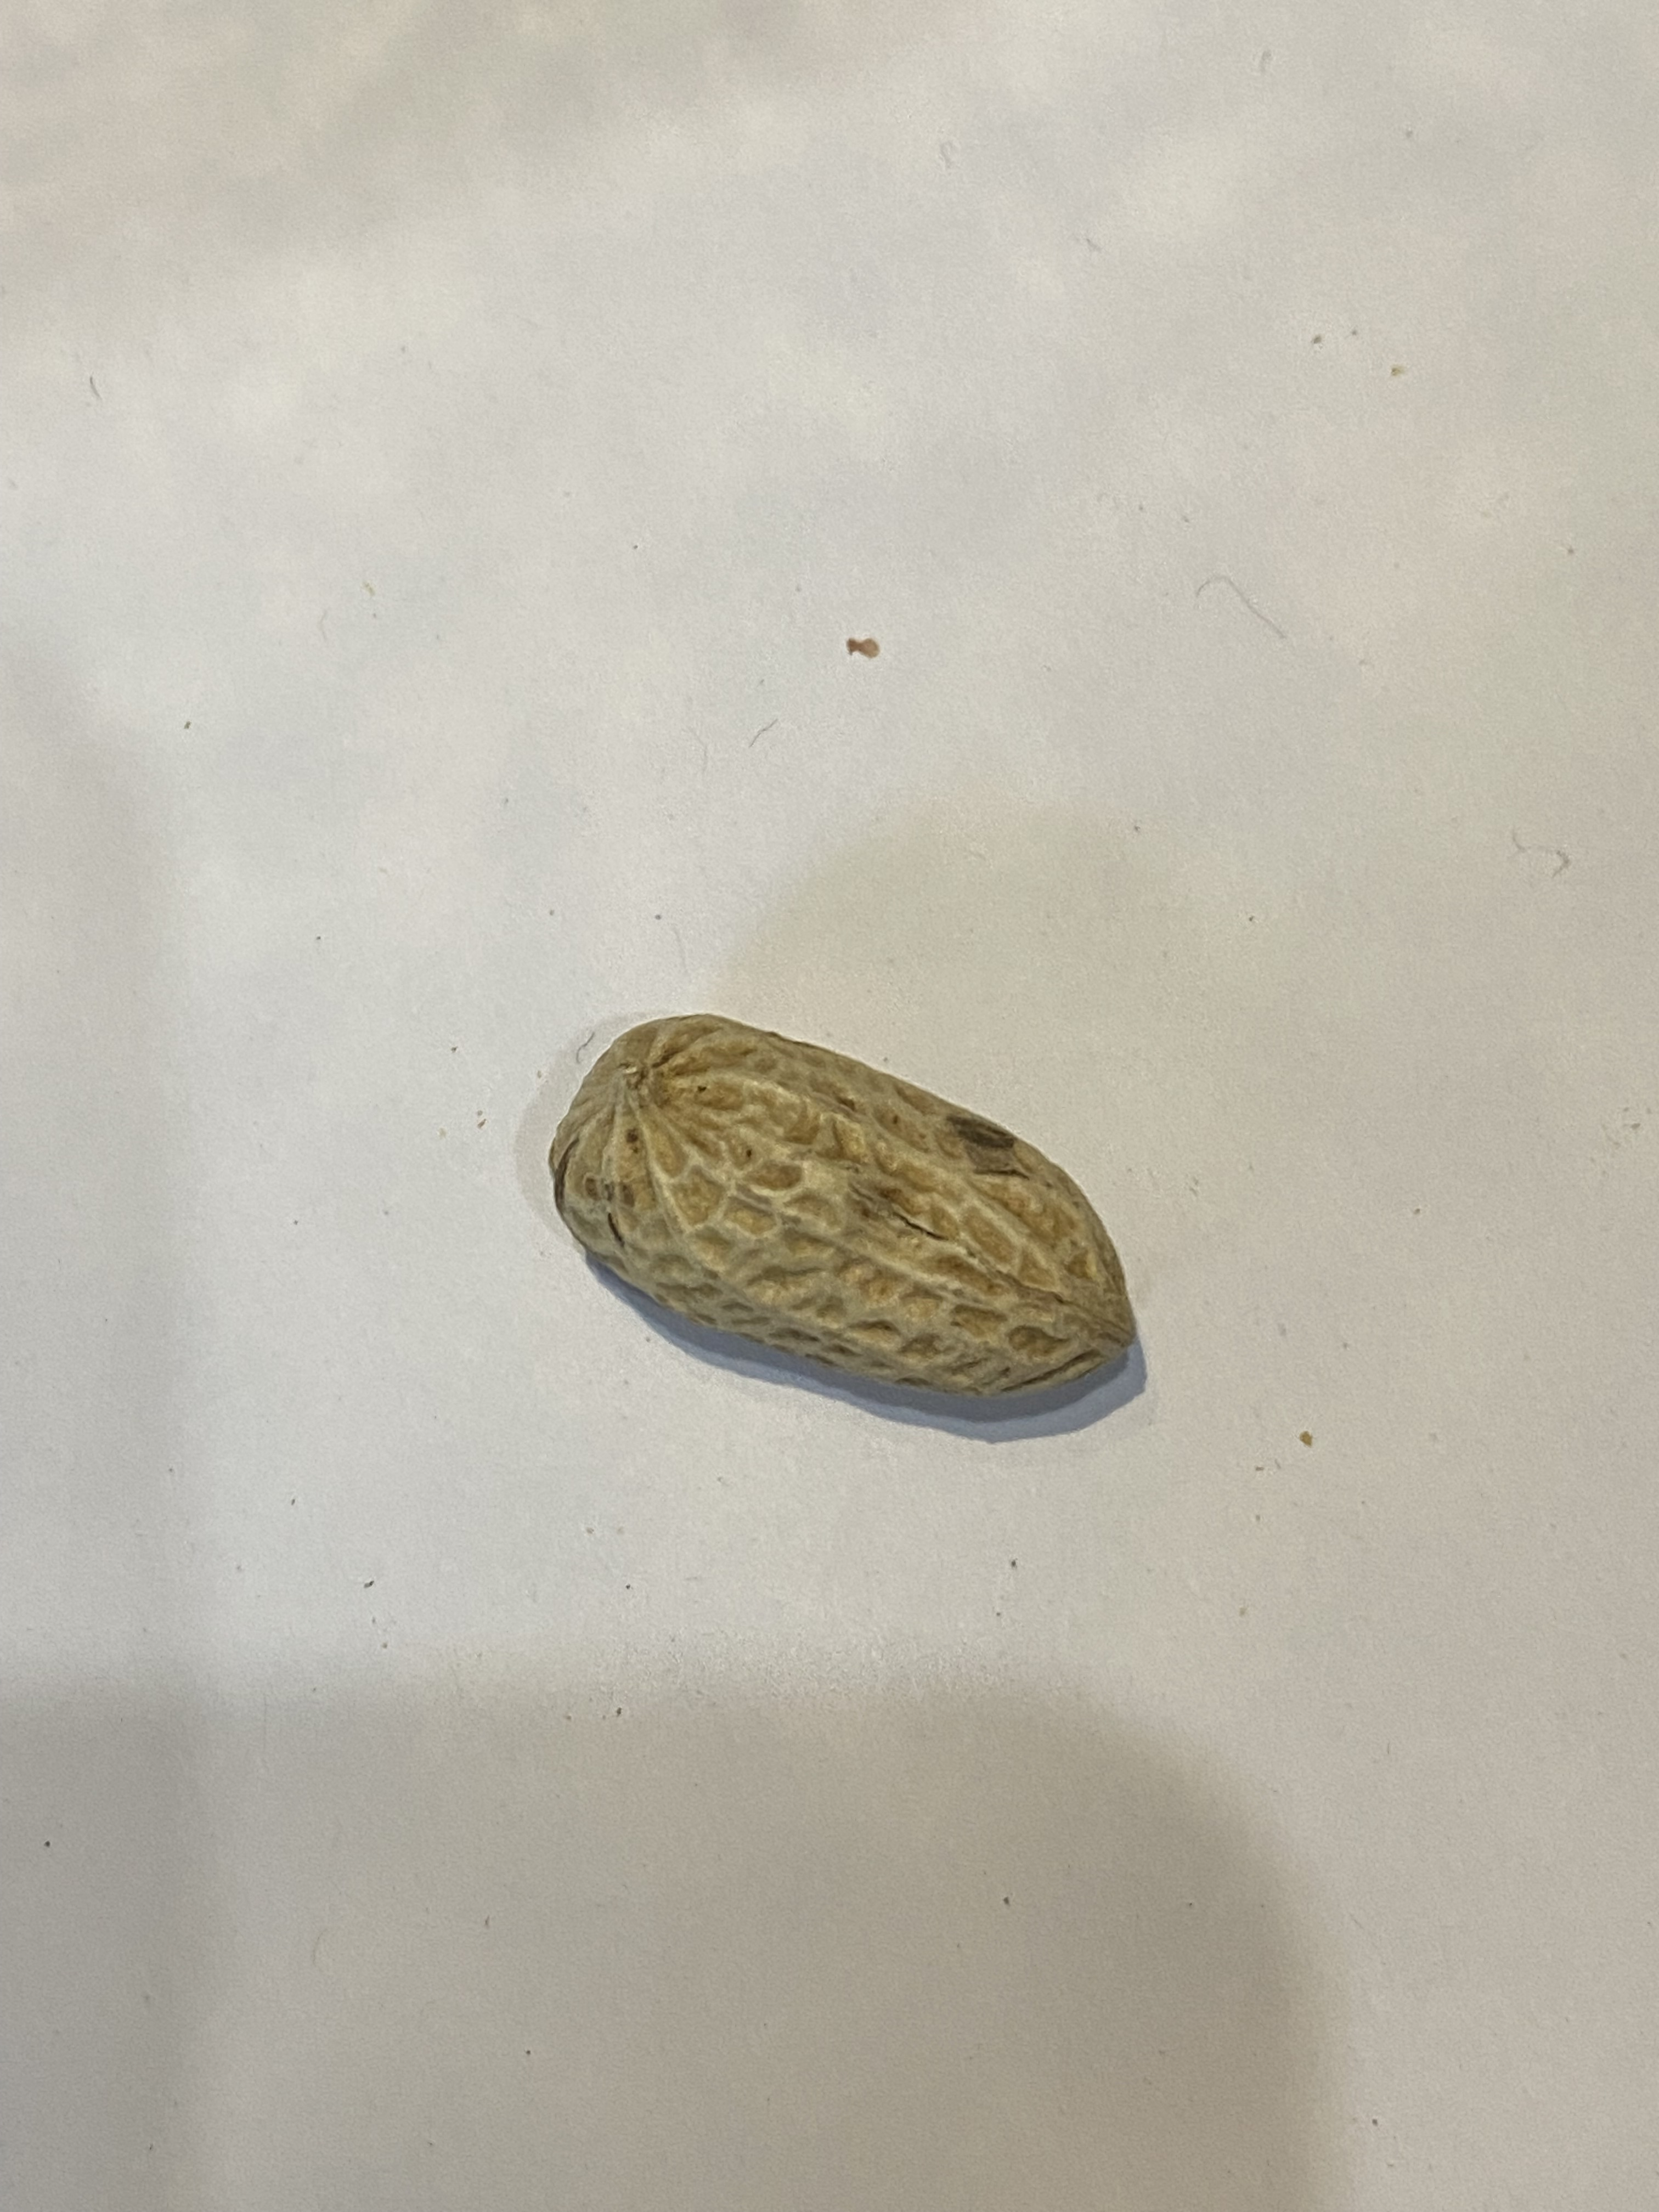kacang2: (530, 975, 1164, 1425)
